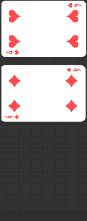4H: (67, 1, 83, 9)
